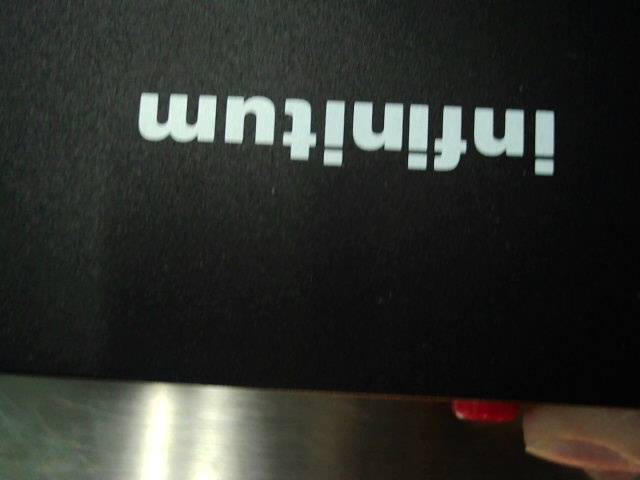BK_infinitum: (132, 77, 560, 184)
